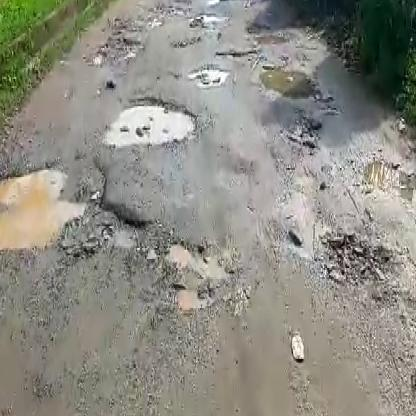pothole: (0, 171, 130, 252), (151, 237, 239, 311), (104, 95, 199, 149), (322, 231, 397, 290), (360, 158, 416, 198), (259, 69, 323, 104), (281, 115, 321, 155), (189, 65, 231, 88), (213, 45, 264, 59)
